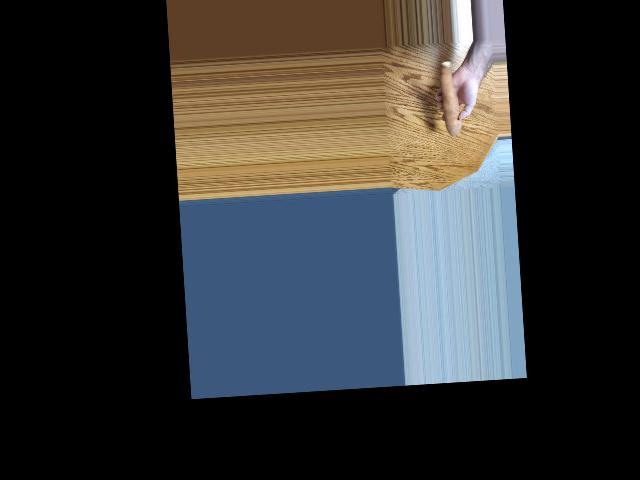sweet_potato: (435, 66, 458, 137)
